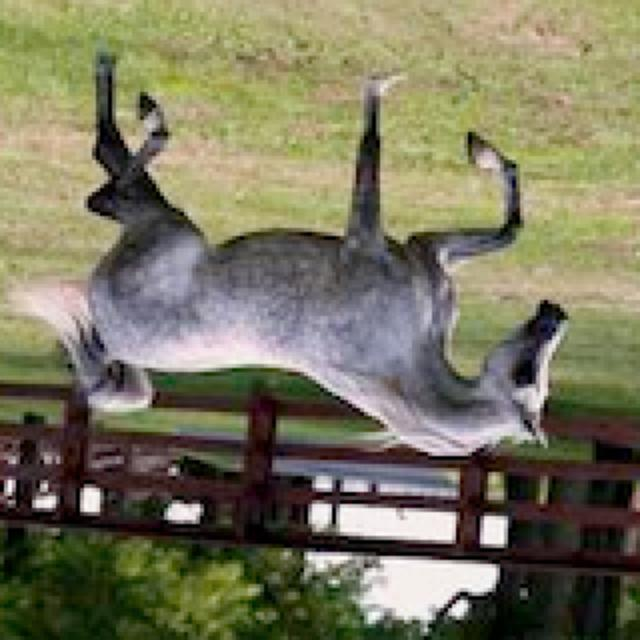Horse: (16, 52, 576, 468)
